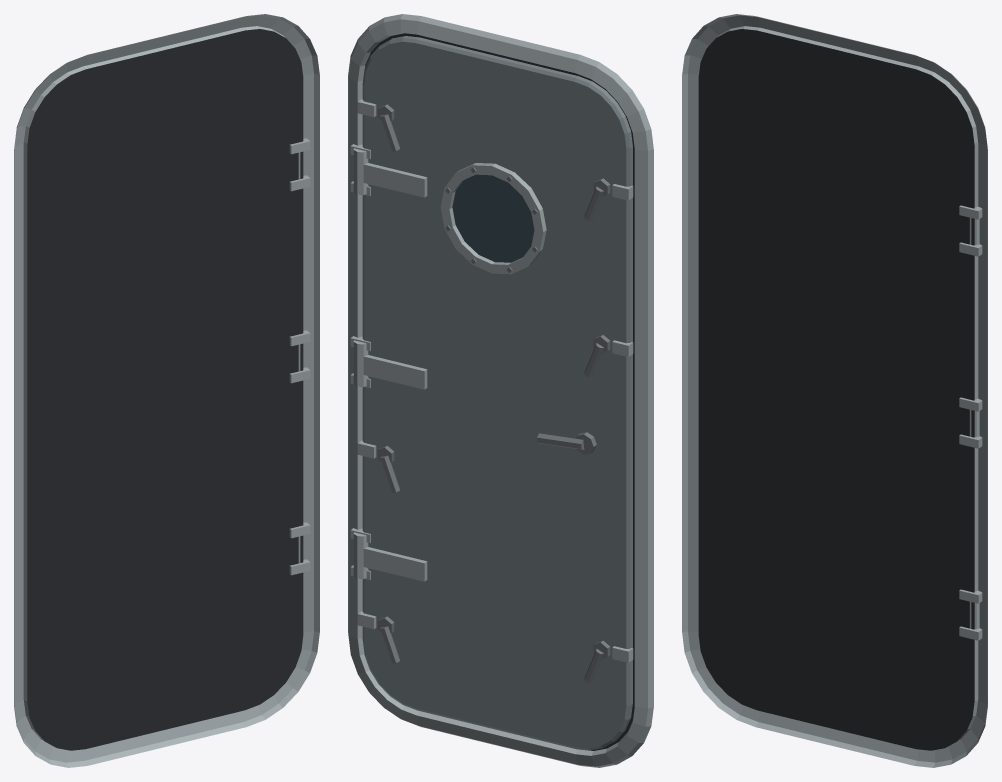
3 views of the same model, side by side, from view 1: azimuth 30°, elevation 25°; view 2: azimuth 150°, elevation 25°; view 3: azimuth 330°, elevation 25° (orthographic).
Visible parts, largest first — view 1: component.root.mesh; view 2: component.root.mesh; view 3: component.root.mesh.
Boxes of the visible parts, x1,y1,x2,y2 form: component.root.mesh: (14,14,319,767); component.root.mesh: (348,14,653,767); component.root.mesh: (682,14,987,767).
Size of the model in its own units: 0.9 by 2 by 0.0581.
